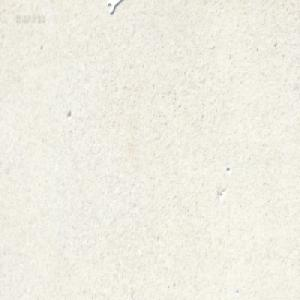Wrench: (108, 0, 121, 13)
